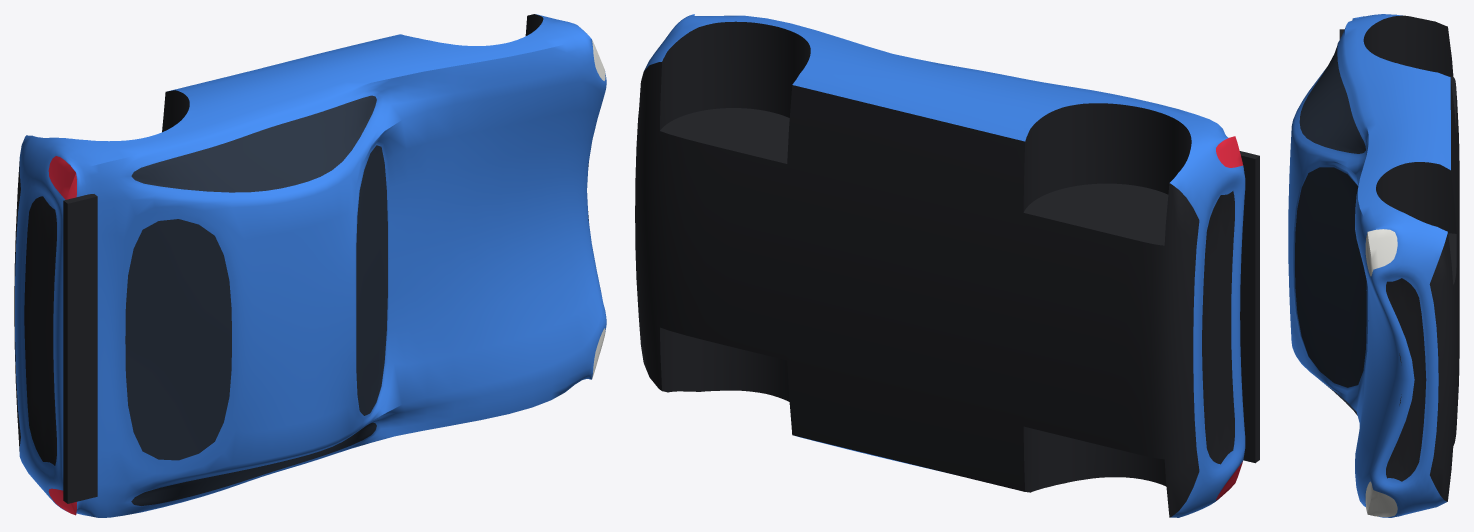
The model's file is flecha.glb.
3 views of the same model, side by side, from view 1: azimuth 30°, elevation 25°; view 2: azimuth 150°, elevation 25°; view 3: azimuth 270°, elevation 25° (orthographic). The views are drawn at different scales.
Parts seen in each view (by area): view 1: flecha; view 2: flecha; view 3: flecha.
Boxes of the visible parts, bbox=[...] form: flecha: bbox=[14, 14, 606, 517]; flecha: bbox=[635, 14, 1259, 517]; flecha: bbox=[1288, 14, 1459, 517].
Size of the model in its own units: 131 by 82.8 by 41.75.
